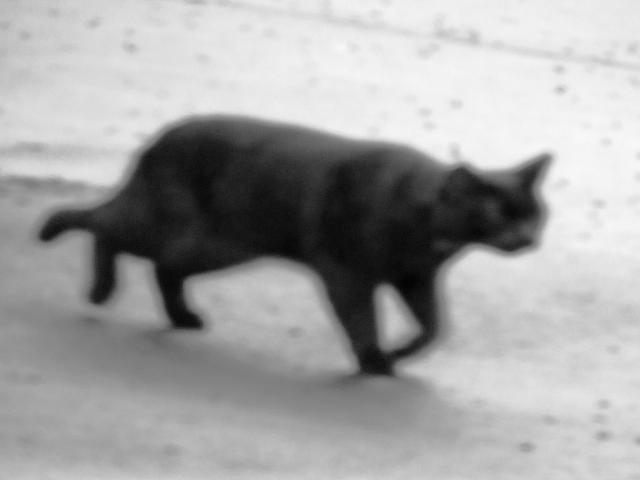Cat: (24, 112, 557, 382)
